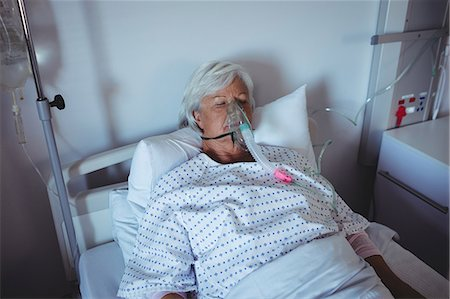paciente: (93, 40, 436, 299)
